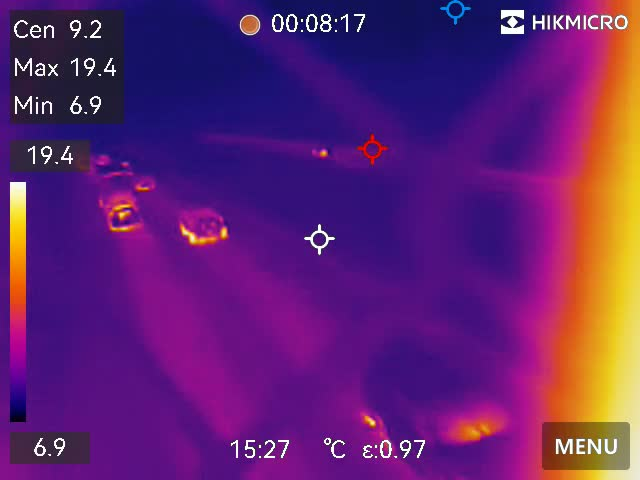vehicle: (174, 203, 240, 253), (95, 174, 145, 234), (137, 170, 156, 192)
